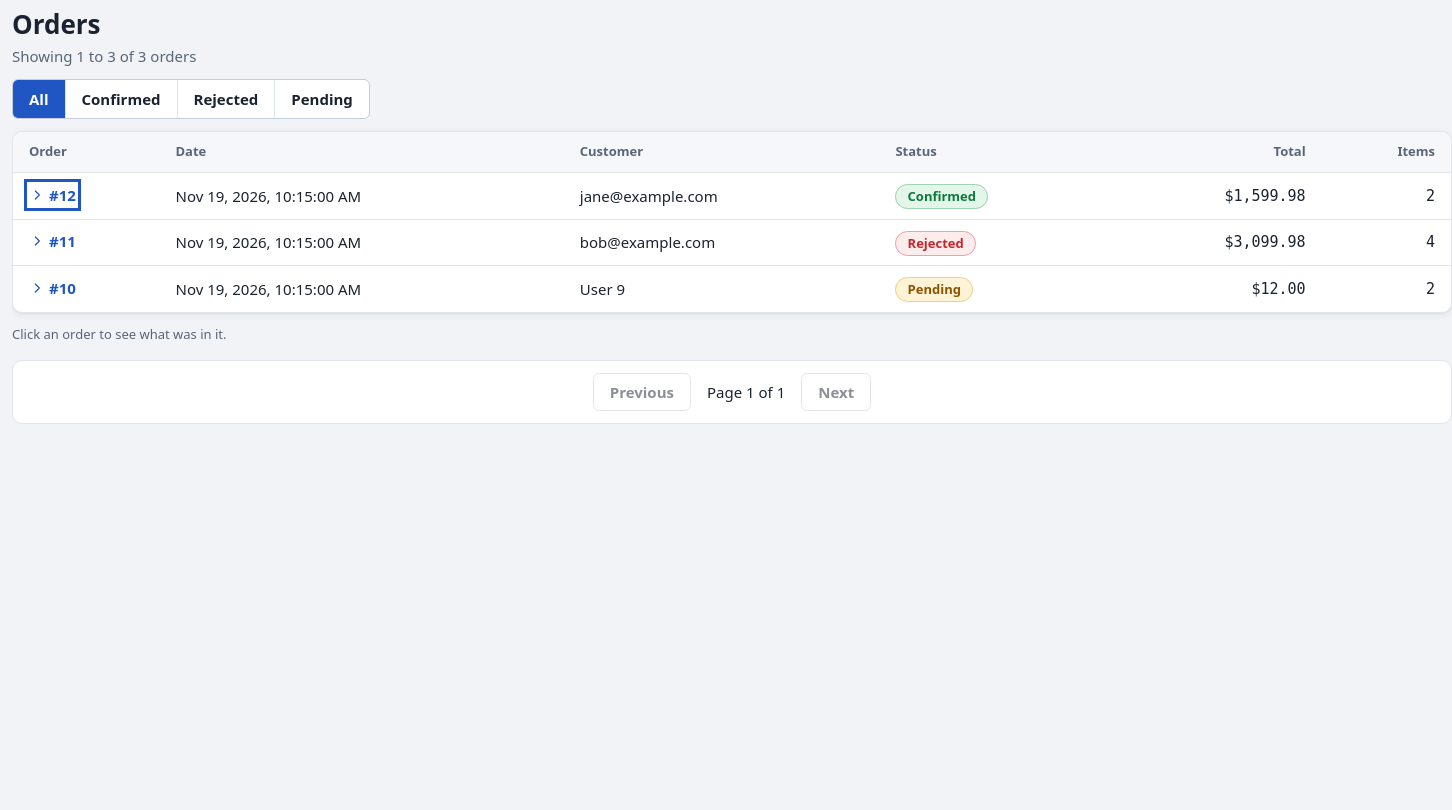
Admin orders page › opening an order › opens from the keyboard, and more than one order can be open at once
This screenshot has width=1452, height=810.
Expected: the text "jane@example.com" is shown, [564, 173, 879, 219]
Press Enter
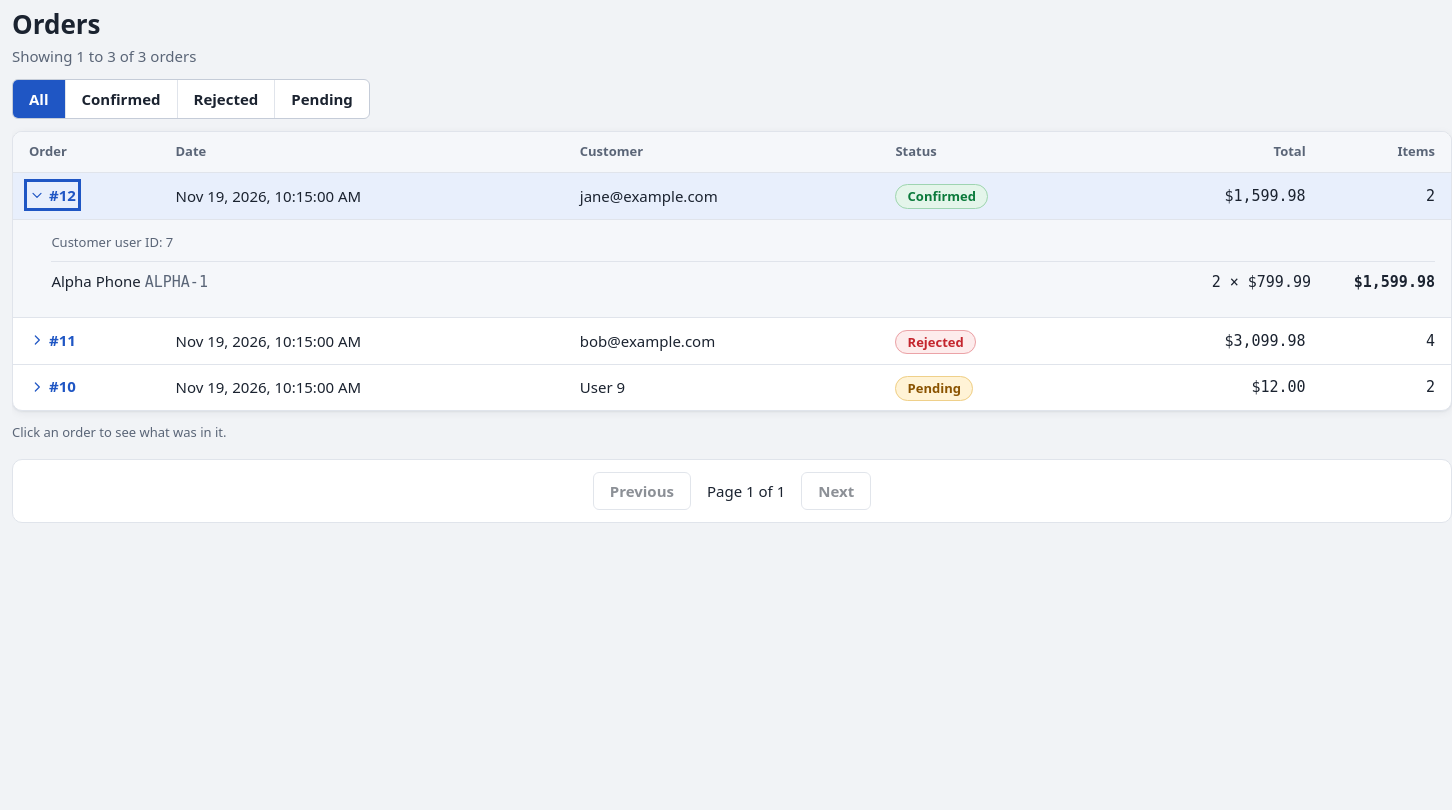
Click the button named "Order #11" at (52, 340), box [29, 329, 76, 351]
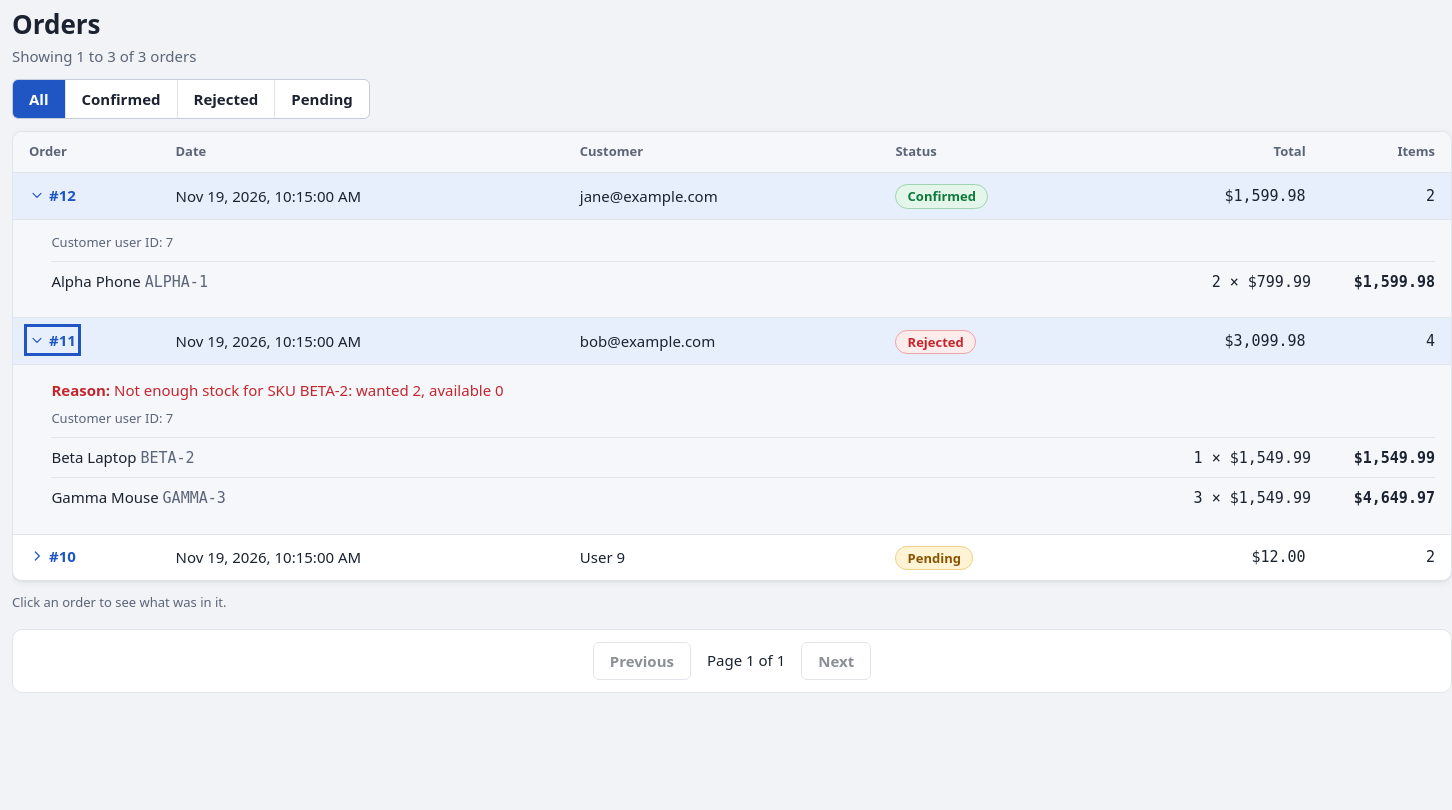
Result: the list named "Items in order 12" is shown at [51, 261, 1435, 301]
Result: the list named "Items in order 11" is shown at [51, 436, 1435, 518]
